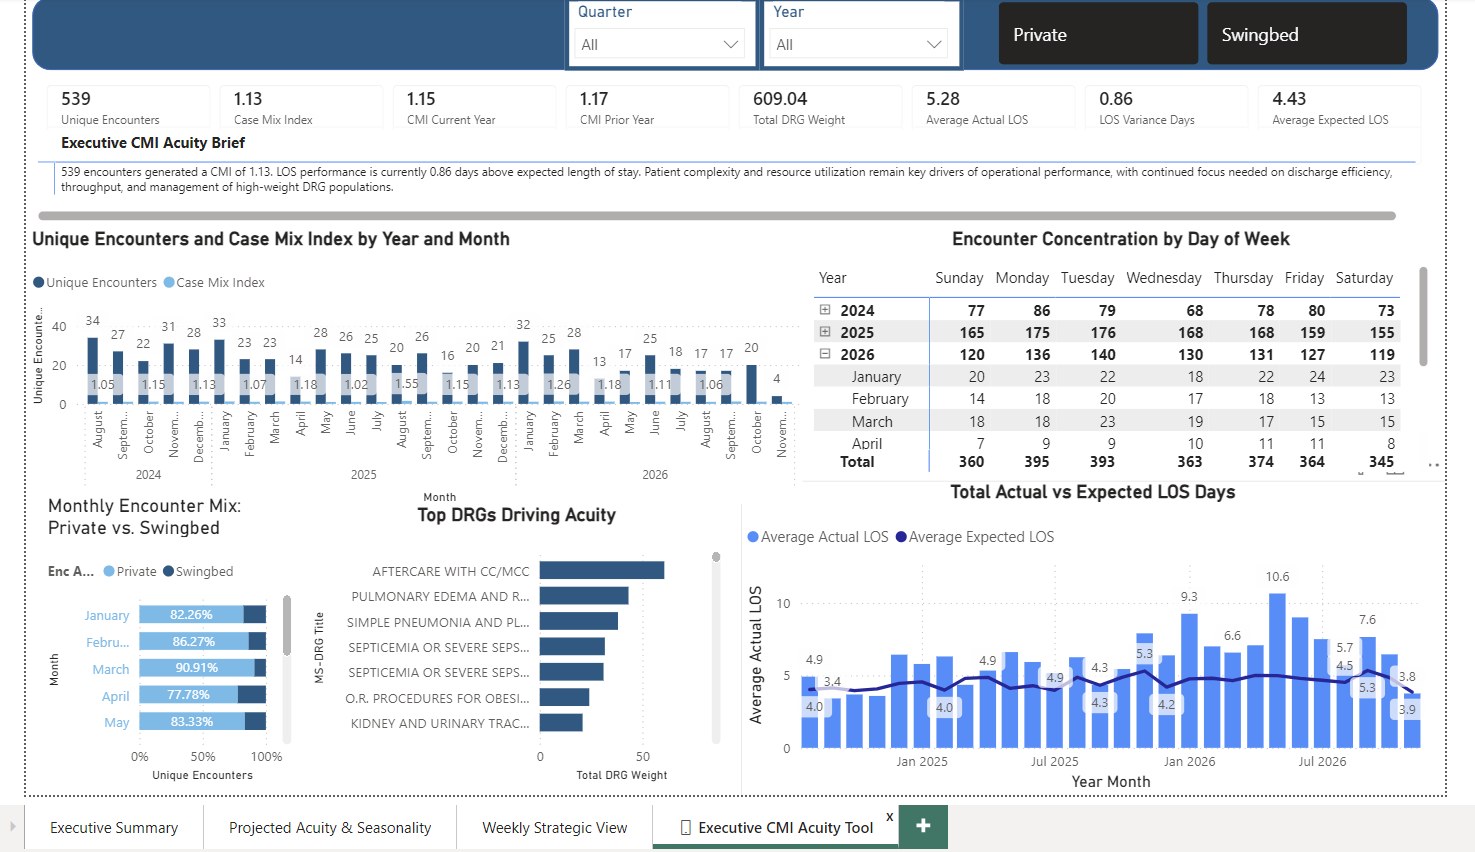

Layout of this report page (visuals, bound fields, positions):
{"tool":"powerbi","page":{"name":"Executive CMI Acuity Tool","canvas":[1280,720],"ordinal":3},"visuals":[{"type":"shape","box":[6,0,1268,66],"z":0},{"type":"cardVisual","title":"Case Mix Index","fields":{"Data":["Med-Surg DRG.Unique Encounters","Med-Surg DRG.CMI","Med-Surg DRG.CMI Current Year","Med-Surg DRG.CMI Prior Year","Med-Surg DRG.Total DRG Weight","Med-Surg DRG.Average Actual LOS","Med-Surg DRG.LOS Variance Days","Med-Surg DRG.Average Expected LOS"]},"box":[5.9,66.1,1268.2,98.5],"z":1000},{"type":"barChart","title":"Top DRGs Driving Acuity","fields":{"Category":["MS-DRG-Mapping.MS-DRG Title"],"Y":["Med-Surg DRG.Total DRG Weight"]},"box":[254,456.4,378,256],"z":2000},{"type":"lineStackedColumnComboChart","title":"Total Actual vs Expected LOS Days","fields":{"Category":["Calendar.Year Month"],"Y":["Med-Surg DRG.Average Actual LOS"],"Y2":["Med-Surg DRG.Average Expected LOS"]},"box":[645.1,435.7,634.9,284.4],"z":3000},{"type":"pivotTable","title":"Encounter Concentration by Day of Week","fields":{"Columns":["Calendar.Day Name"],"Rows":["Calendar.Date.Variation.Date Hierarchy.Year","Calendar.Date.Variation.Date Hierarchy.Month"],"Values":["Med-Surg DRG.Unique Encounters"]},"box":[709.7,207.1,555.6,221.2],"z":4000},{"type":"lineClusteredColumnComboChart","fields":{"Category":["Calendar.Date.Variation.Date Hierarchy.Year","Calendar.Date.Variation.Date Hierarchy.Month"],"Y":["Med-Surg DRG.Unique Encounters","Med-Surg DRG.CMI"]},"box":[6,207.1,694.3,249.3],"z":5000},{"type":"slicer","fields":{"Values":["Calendar.Quarter"]},"box":[485.7,0,176.3,66.1],"z":6000},{"type":"slicer","fields":{"Values":["Calendar.Year"]},"box":[662,0,183.7,66.1],"z":7000},{"type":"advancedSlicerVisual","fields":{"Values":["Med-Surg DRG.Enc Accommodation"]},"box":[872.9,0,378.4,66.1],"z":8000},{"type":"hundredPercentStackedBarChart","title":"Monthly Encounter Mix: Private vs. Swingbed","fields":{"Category":["Calendar.Week Ending.Variation.Date Hierarchy.Month","Calendar.Week Ending.Variation.Date Hierarchy.Day"],"Series":["Med-Surg DRG.Enc Accommodation"],"Y":["Med-Surg DRG.Unique Encounters"]},"box":[14.7,448.3,229.9,264],"z":9000},{"type":"pivotTable","fields":{"Values":["Med-Surg DRG.Executive CMI Acuity Brief"]},"box":[5.9,115.4,1252.1,91.8],"z":11000}]}

Visuals, with their boxes on the page's 1280x720 design canvas (x1, y1, x2, y2). These are canvas units, not pixel positions in the 1475x852 screenshot, which may show the page scaled, cropped or inside an application window:
shape: [6,0,1274,66]
"Case Mix Index" cardVisual: [6,66,1274,165]
"Top DRGs Driving Acuity" barChart: [254,456,632,712]
"Total Actual vs Expected LOS Days" lineStackedColumnComboChart: [645,436,1280,720]
"Encounter Concentration by Day of Week" pivotTable: [710,207,1265,428]
lineClusteredColumnComboChart - Calendar.Date.Variation.Date Hierarchy.Year x Calendar.Date.Variation.Date Hierarchy.Month: [6,207,700,456]
slicer - Calendar.Quarter: [486,0,662,66]
slicer - Calendar.Year: [662,0,846,66]
advancedSlicerVisual - Med-Surg DRG.Enc Accommodation: [873,0,1251,66]
"Monthly Encounter Mix: Private vs. Swingbed" hundredPercentStackedBarChart: [15,448,245,712]
pivotTable - Med-Surg DRG.Executive CMI Acuity Brief: [6,115,1258,207]
